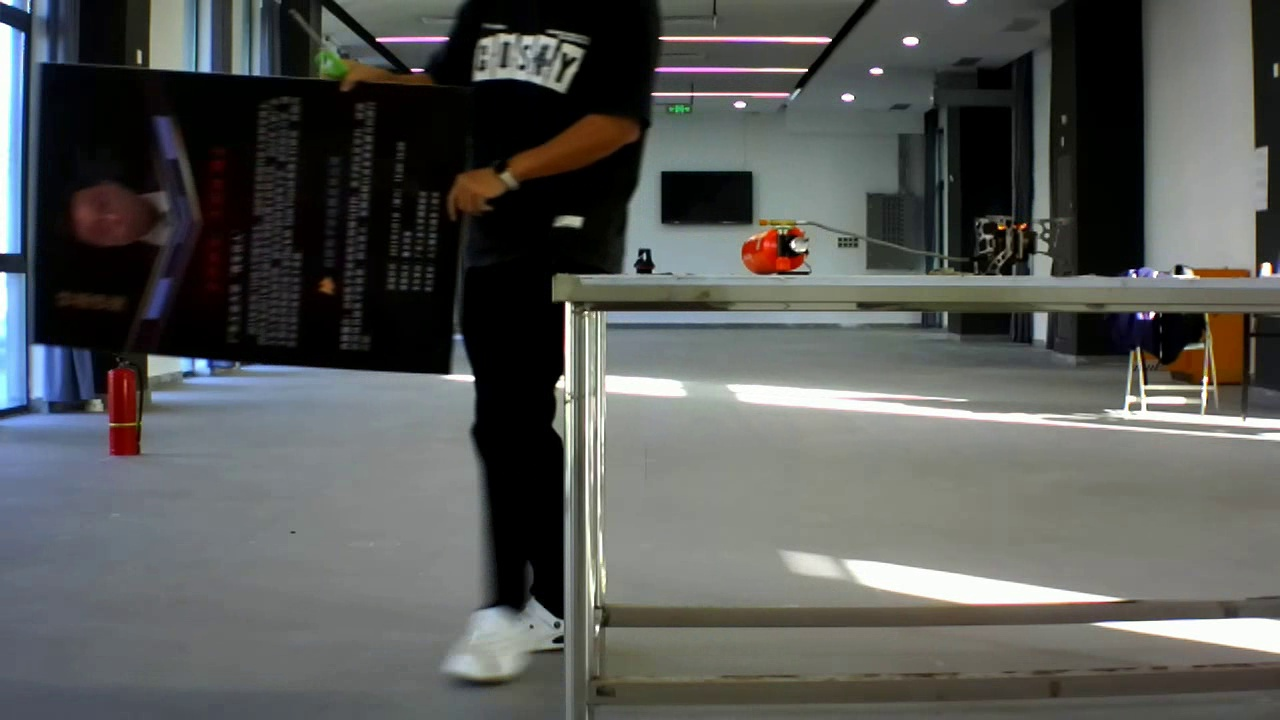Fire: (987, 202, 1044, 240)
